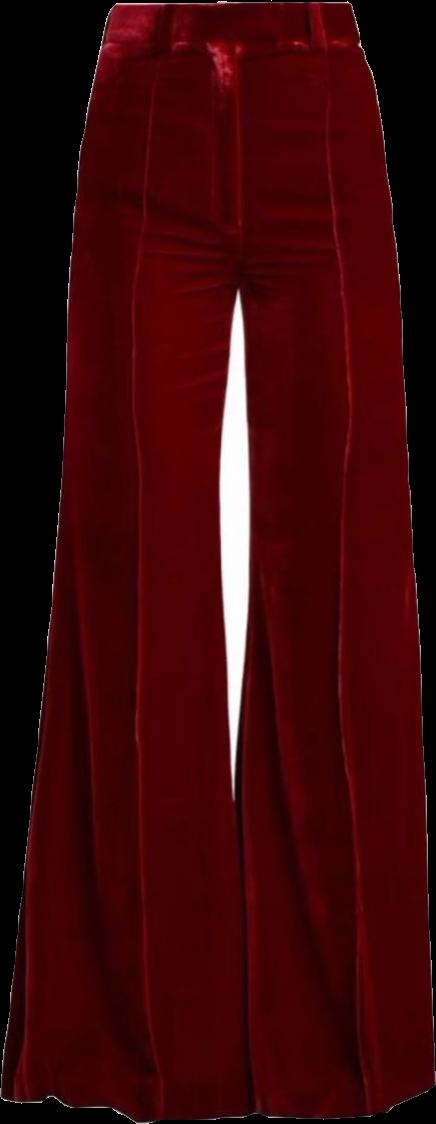Hemline: (232, 1077, 435, 1123), (0, 1086, 240, 1123)
Pantleg: (0, 0, 244, 1122), (234, 0, 434, 1121)
Waistline: (97, 34, 360, 59), (106, 0, 351, 16)
